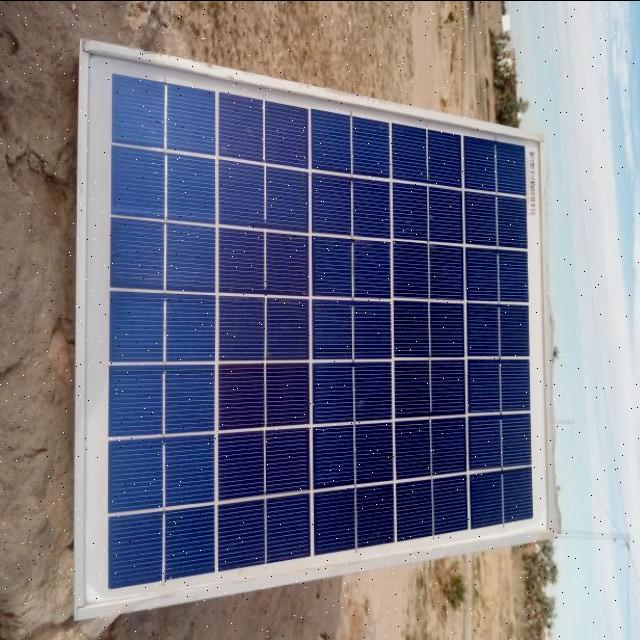Normal Solar Panel: (78, 40, 555, 612)
